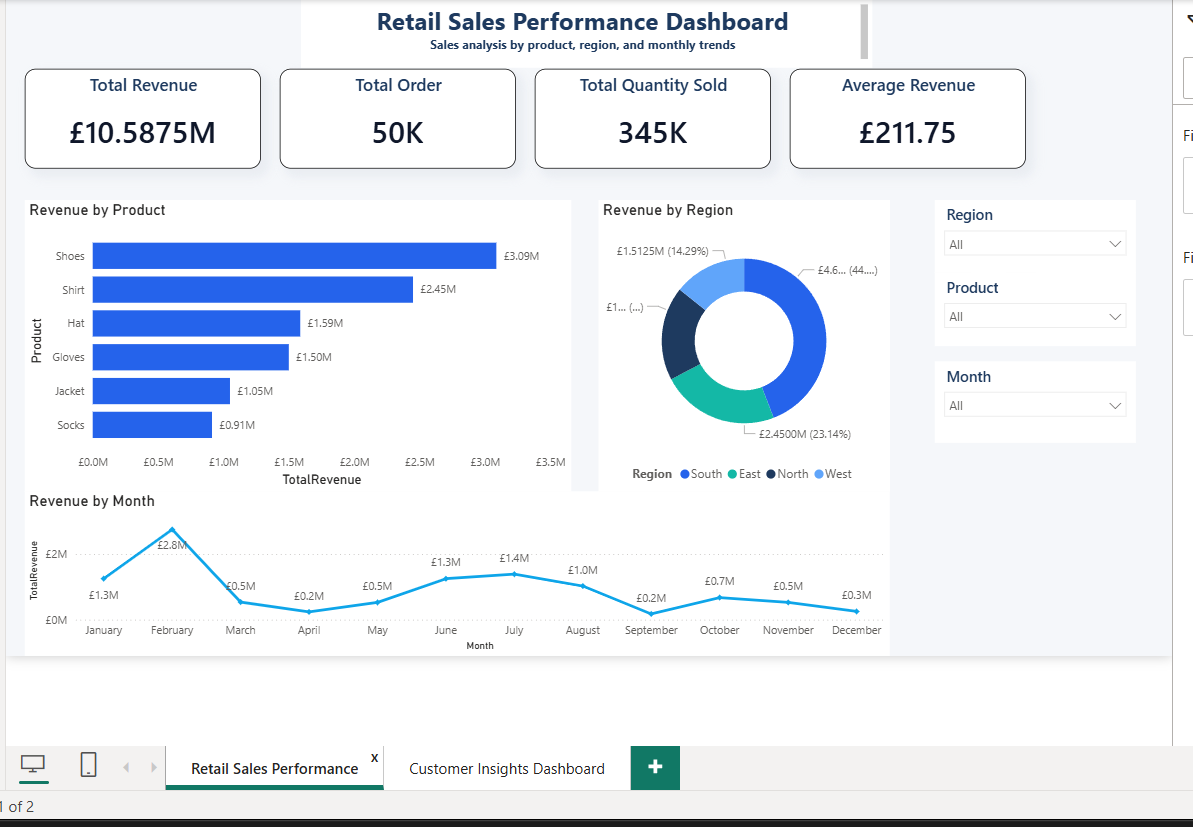

The page's visual inventory and layout, read from the dashboard file:
{"tool":"powerbi","page":{"name":"Retail Sales Performance","canvas":[1280,720],"ordinal":0},"visuals":[{"type":"cardVisual","title":"Total Revenue","fields":{"Data":["SalesData1.TotalRevenue"]},"box":[20.5,74.8,259.4,109.8],"z":0},{"type":"cardVisual","title":"Total Order","fields":{"Data":["SalesData1.TotalOrder"]},"box":[300.2,75,259.3,109.8],"z":1000},{"type":"cardVisual","title":"Total Quantity Sold","fields":{"Data":["SalesData1.TotalQuanitySold"]},"box":[580.2,75,259.3,109.8],"z":2000},{"type":"cardVisual","title":"Average Revenue","fields":{"Data":["SalesData1.AverageRevenue"]},"box":[860.2,75,259.3,109.8],"z":3000},{"type":"clusteredBarChart","title":"Revenue by Product","fields":{"Y":["SalesData1.TotalRevenue"],"Category":["SalesData1.Product"]},"box":[20,220,600,320],"z":4000},{"type":"donutChart","title":"Revenue by Region","fields":{"Category":["SalesData1.Region"],"Y":["SalesData1.TotalRevenue"]},"box":[650,220,320,320],"z":5000},{"type":"lineChart","title":"Revenue by Month","fields":{"Category":["SalesData1.Month"],"Y":["SalesData1.TotalRevenue"]},"box":[20.5,539.3,949.5,181],"z":6000},{"type":"slicer","fields":{"Values":["SalesData1.Region"]},"box":[1019.4,219.6,220.8,79.6],"z":7000},{"type":"slicer","fields":{"Values":["SalesData1.Product"]},"box":[1019.4,299.2,220.8,80.8],"z":8000},{"type":"slicer","fields":{"Values":["SalesData1.Month"]},"box":[1019.4,396.9,220.8,89.3],"z":9000},{"type":"textbox","box":[323.3,0,627.3,74.8],"z":10000}]}

Visuals, with their boxes on the page's 1280x720 design canvas (x1, y1, x2, y2). These are canvas units, not pixel positions in the 1193x827 screenshot, which may show the page scaled, cropped or inside an application window:
"Total Revenue" cardVisual: 20:75:280:185
"Total Order" cardVisual: 300:75:560:185
"Total Quantity Sold" cardVisual: 580:75:840:185
"Average Revenue" cardVisual: 860:75:1120:185
"Revenue by Product" clusteredBarChart: 20:220:620:540
"Revenue by Region" donutChart: 650:220:970:540
"Revenue by Month" lineChart: 20:539:970:720
slicer - SalesData1.Region: 1019:220:1240:299
slicer - SalesData1.Product: 1019:299:1240:380
slicer - SalesData1.Month: 1019:397:1240:486
textbox: 323:0:951:75
